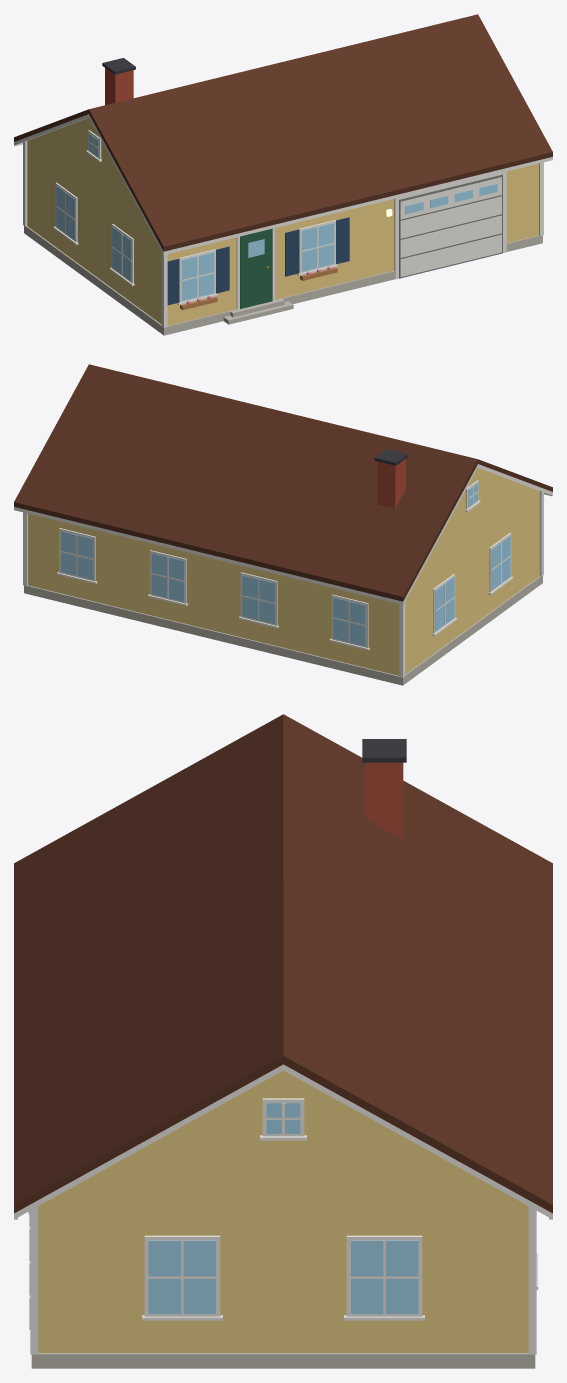
Rendered from house_b.glb.
3 views of the same model, one above another, from view 1: azimuth 30°, elevation 25°; view 2: azimuth 150°, elevation 25°; view 3: azimuth 270°, elevation 25° (orthographic). The views are drawn at different scales.
Visible parts, largest first — view 1: body; view 2: body; view 3: body.
Part boxes in pixels (bbox=[...]): body: bbox=[14, 14, 552, 335]; body: bbox=[14, 364, 552, 685]; body: bbox=[14, 714, 552, 1368].
Size of the model in its own units: 1200 by 548 by 800.
